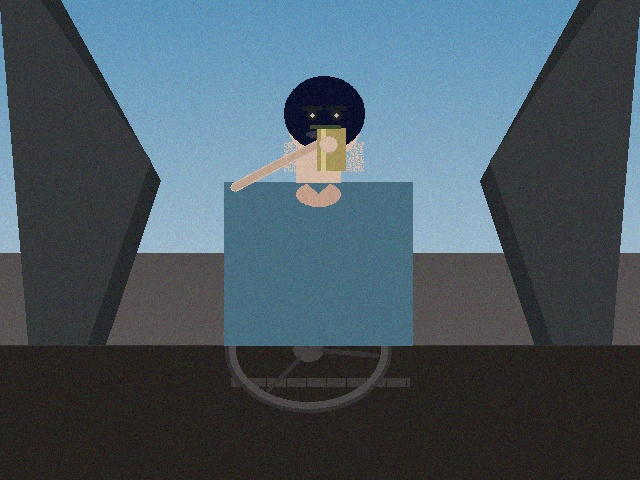drinking: (301, 115, 355, 180)
